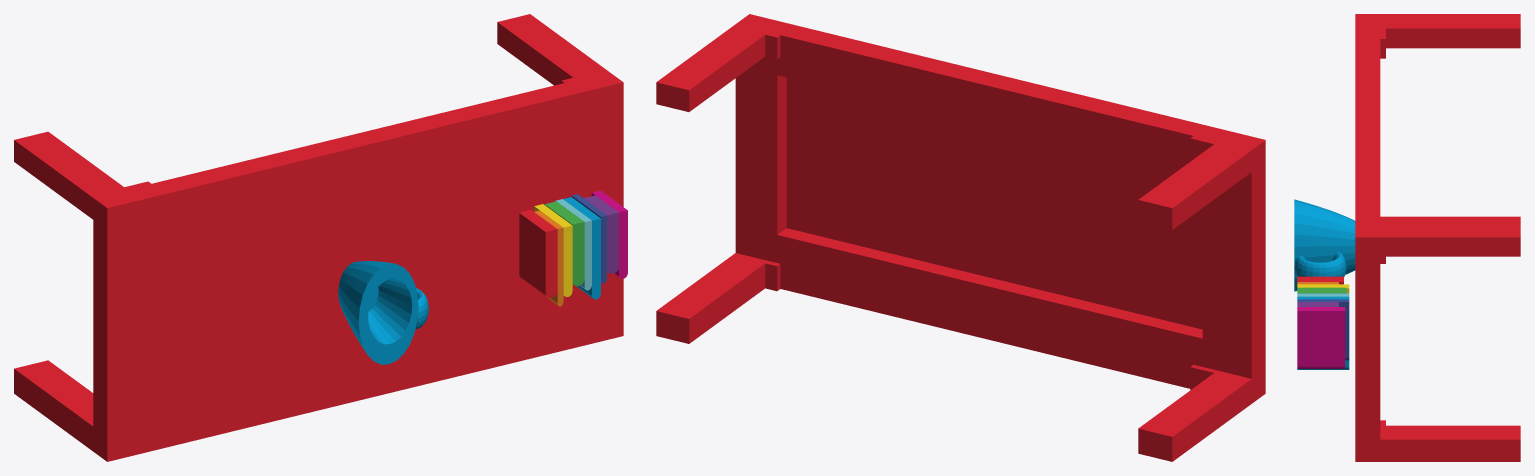
The model's file is tinker.obj.
The picture shows the model from 3 angles, left to right: view 1: azimuth 30°, elevation 25°; view 2: azimuth 150°, elevation 25°; view 3: azimuth 270°, elevation 25°; orthographic projection. The views are drawn at different scales.
Visible parts, largest first — view 1: group_0_15277357, group_0_40919, group_0_4634441, group_0_8273816, group_0_16768282, group_0_14093196, group_0_7720667, group_0_16089887, group_0_3888547; view 2: group_0_15277357; view 3: group_0_15277357, group_0_40919, group_0_14093196, group_0_3888547, group_0_4634441.
Boxes of the visible parts, x1=… form: group_0_15277357: x1=14, y1=14, x2=623, y2=461; group_0_40919: x1=338, y1=197, x2=600, y2=364; group_0_4634441: x1=544, y1=201, x2=584, y2=285; group_0_8273816: x1=584, y1=195, x2=618, y2=273; group_0_16768282: x1=534, y1=204, x2=572, y2=296; group_0_14093196: x1=591, y1=190, x2=627, y2=278; group_0_7720667: x1=555, y1=199, x2=591, y2=290; group_0_16089887: x1=534, y1=210, x2=563, y2=306; group_0_3888547: x1=571, y1=194, x2=606, y2=283; group_0_15277357: x1=656, y1=14, x2=1265, y2=461; group_0_15277357: x1=1297, y1=14, x2=1520, y2=461; group_0_40919: x1=1294, y1=199, x2=1355, y2=369; group_0_14093196: x1=1297, y1=307, x2=1345, y2=368; group_0_3888547: x1=1297, y1=299, x2=1349, y2=360; group_0_4634441: x1=1297, y1=287, x2=1346, y2=293.
Bounding box in the file's own units: 172 × 81 × 74.
